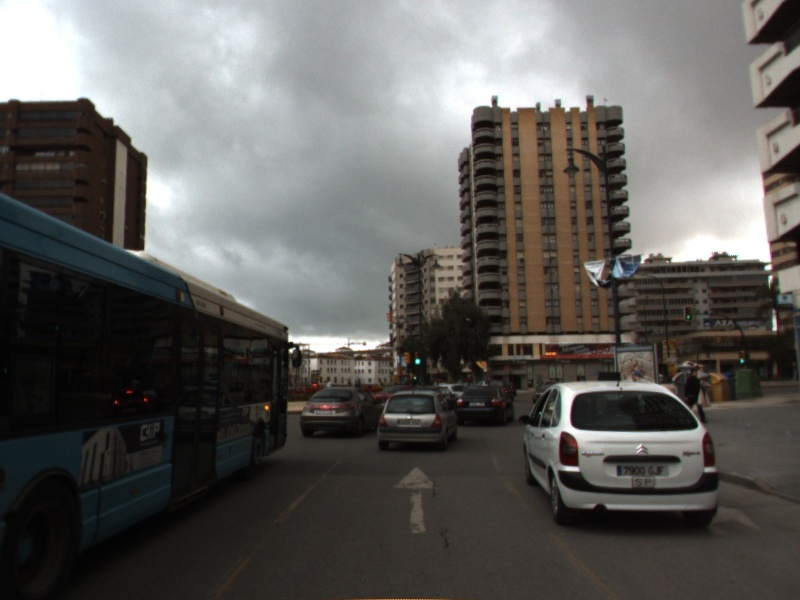STRAIGHT: (391, 464, 441, 535)
